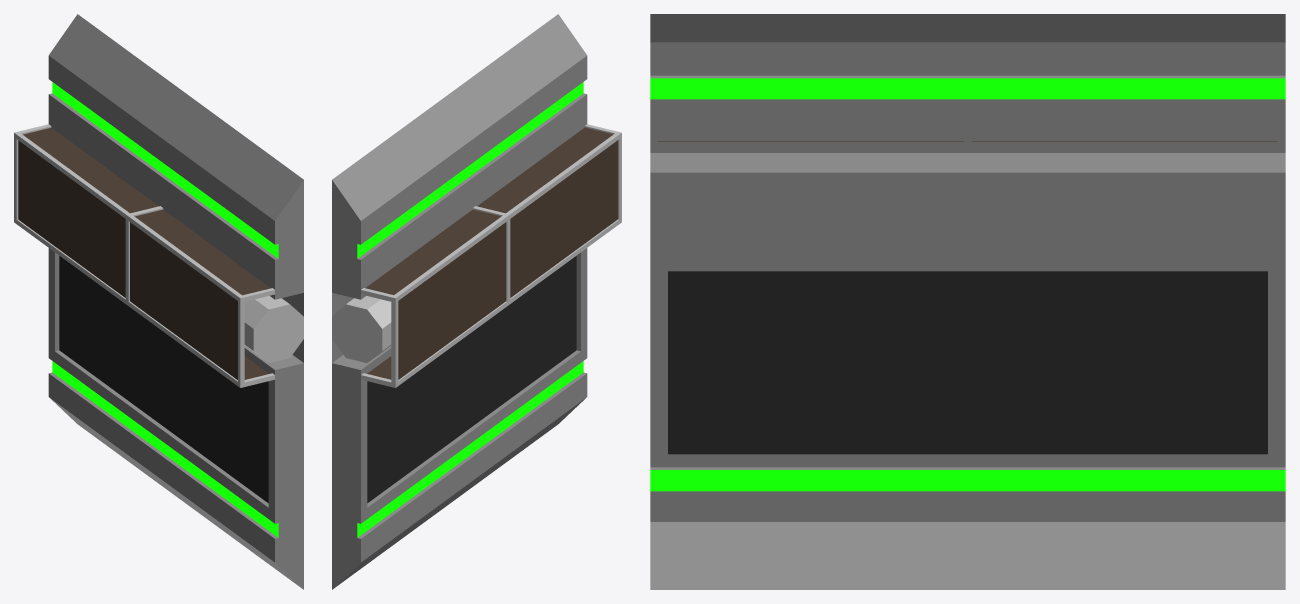
Rendered from Wall_07.FBX.
The picture shows the model from 3 angles, left to right: view 1: azimuth 30°, elevation 25°; view 2: azimuth 150°, elevation 25°; view 3: azimuth 270°, elevation 25°; orthographic projection. The views are drawn at different scales.
Visible parts, largest first — view 1: Wall_07_LOD0; view 2: Wall_07_LOD0; view 3: Wall_07_LOD0.
Boxes of the visible parts, x1,y1,x2,y2 form: Wall_07_LOD0: (14,14,303,589); Wall_07_LOD0: (332,14,621,589); Wall_07_LOD0: (650,14,1285,589).
Size of what is drawn, in the model's own units: 29.17 by 180 by 180.
